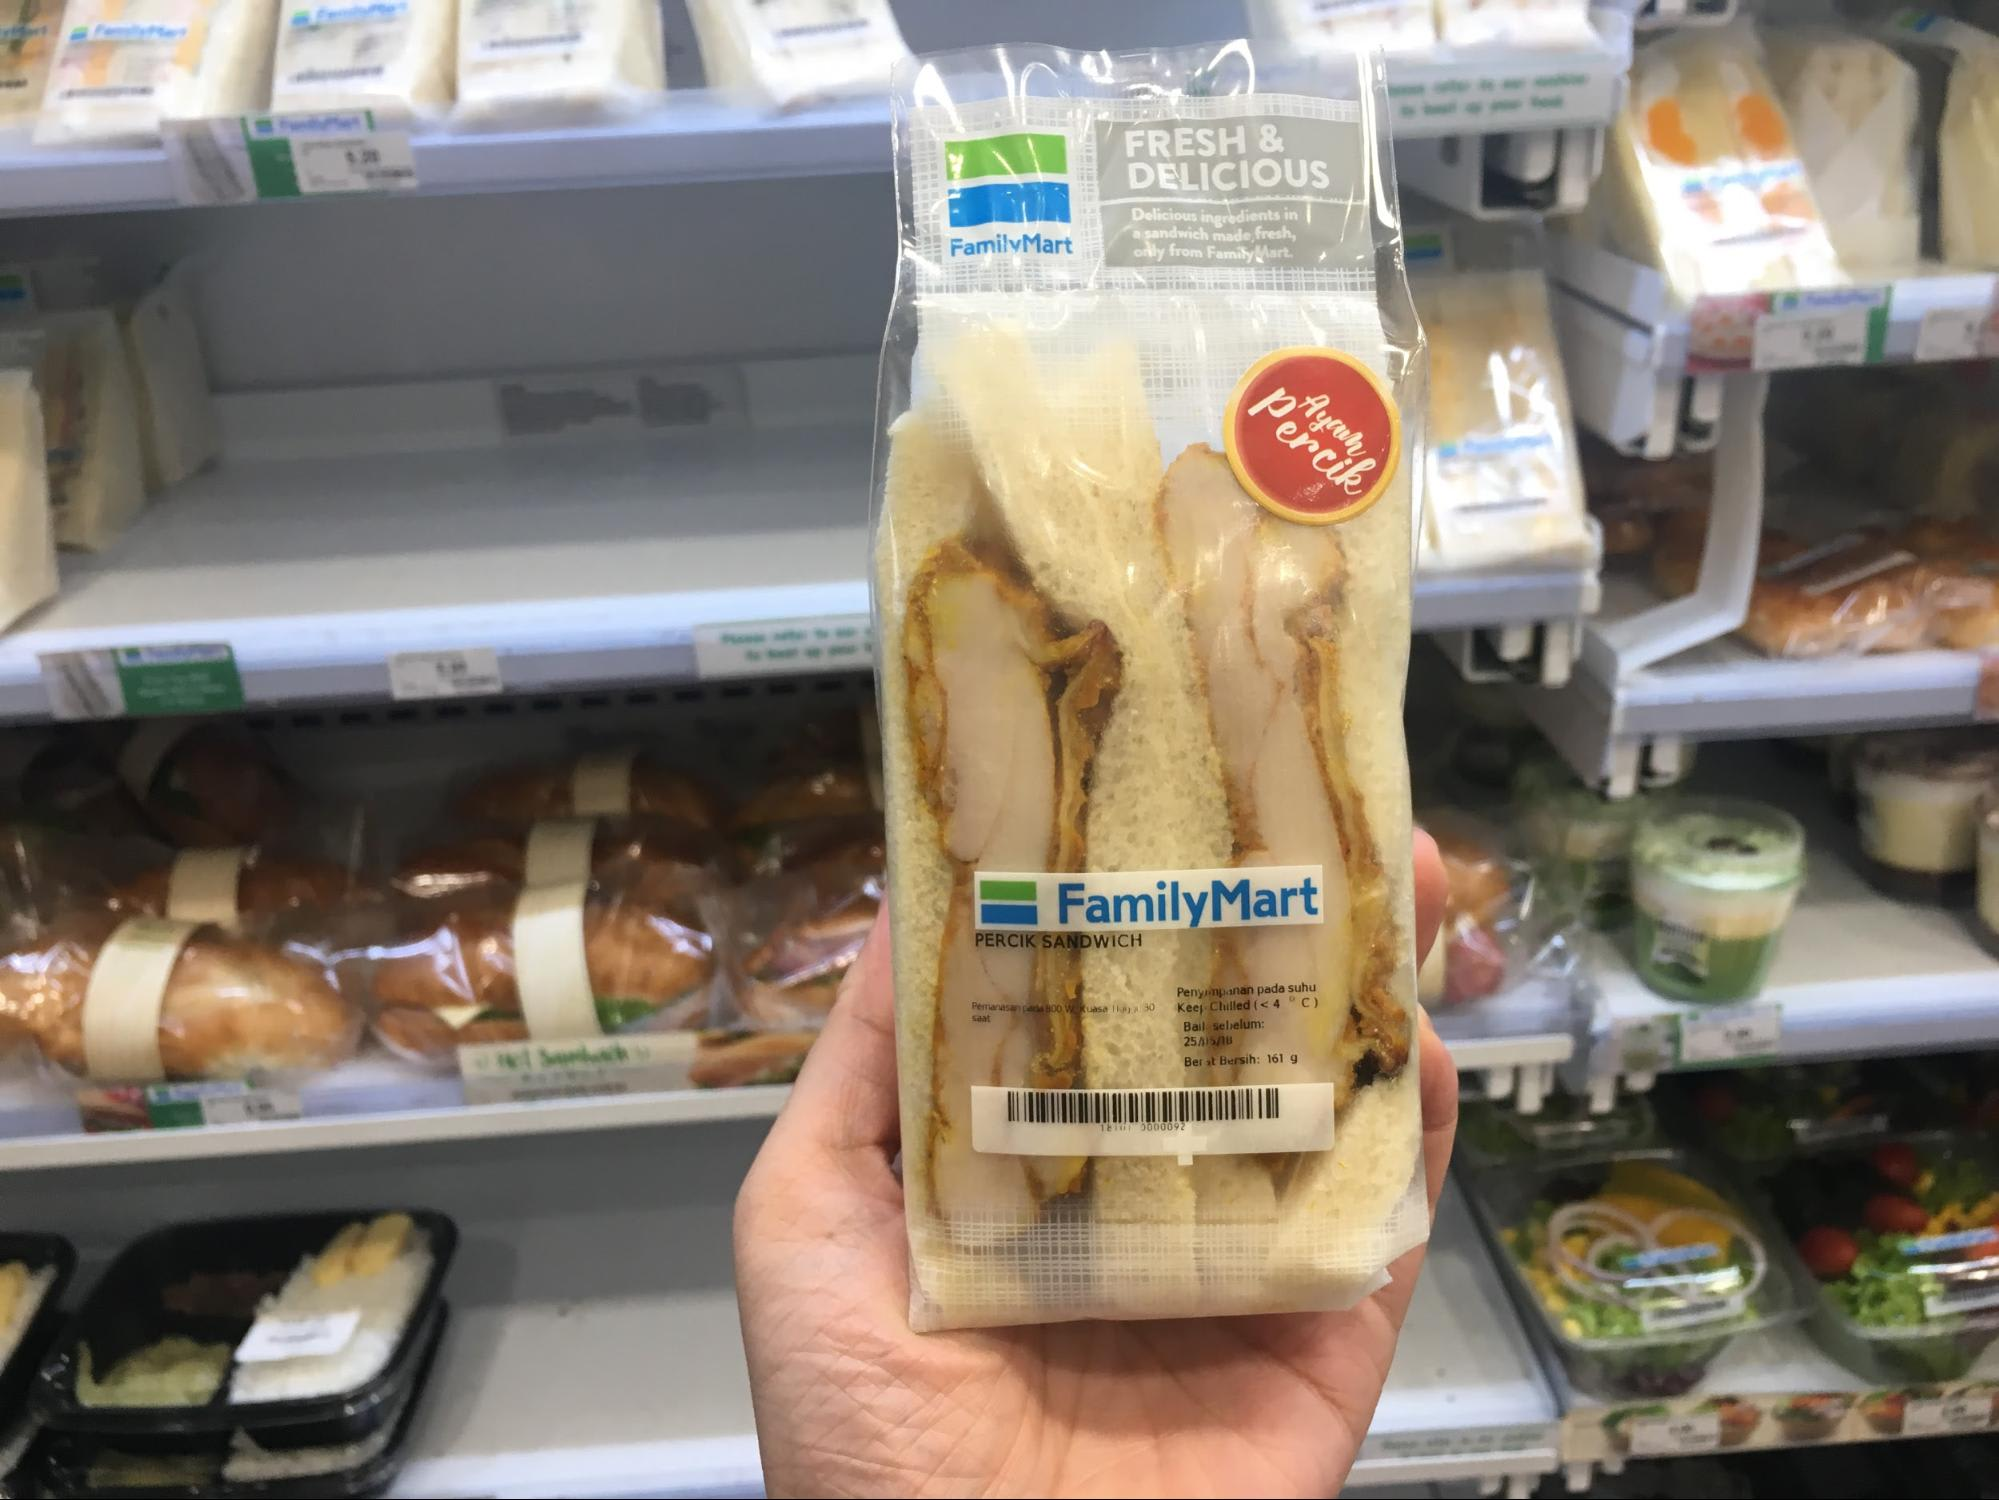sandwich: (803, 24, 1478, 1383)
